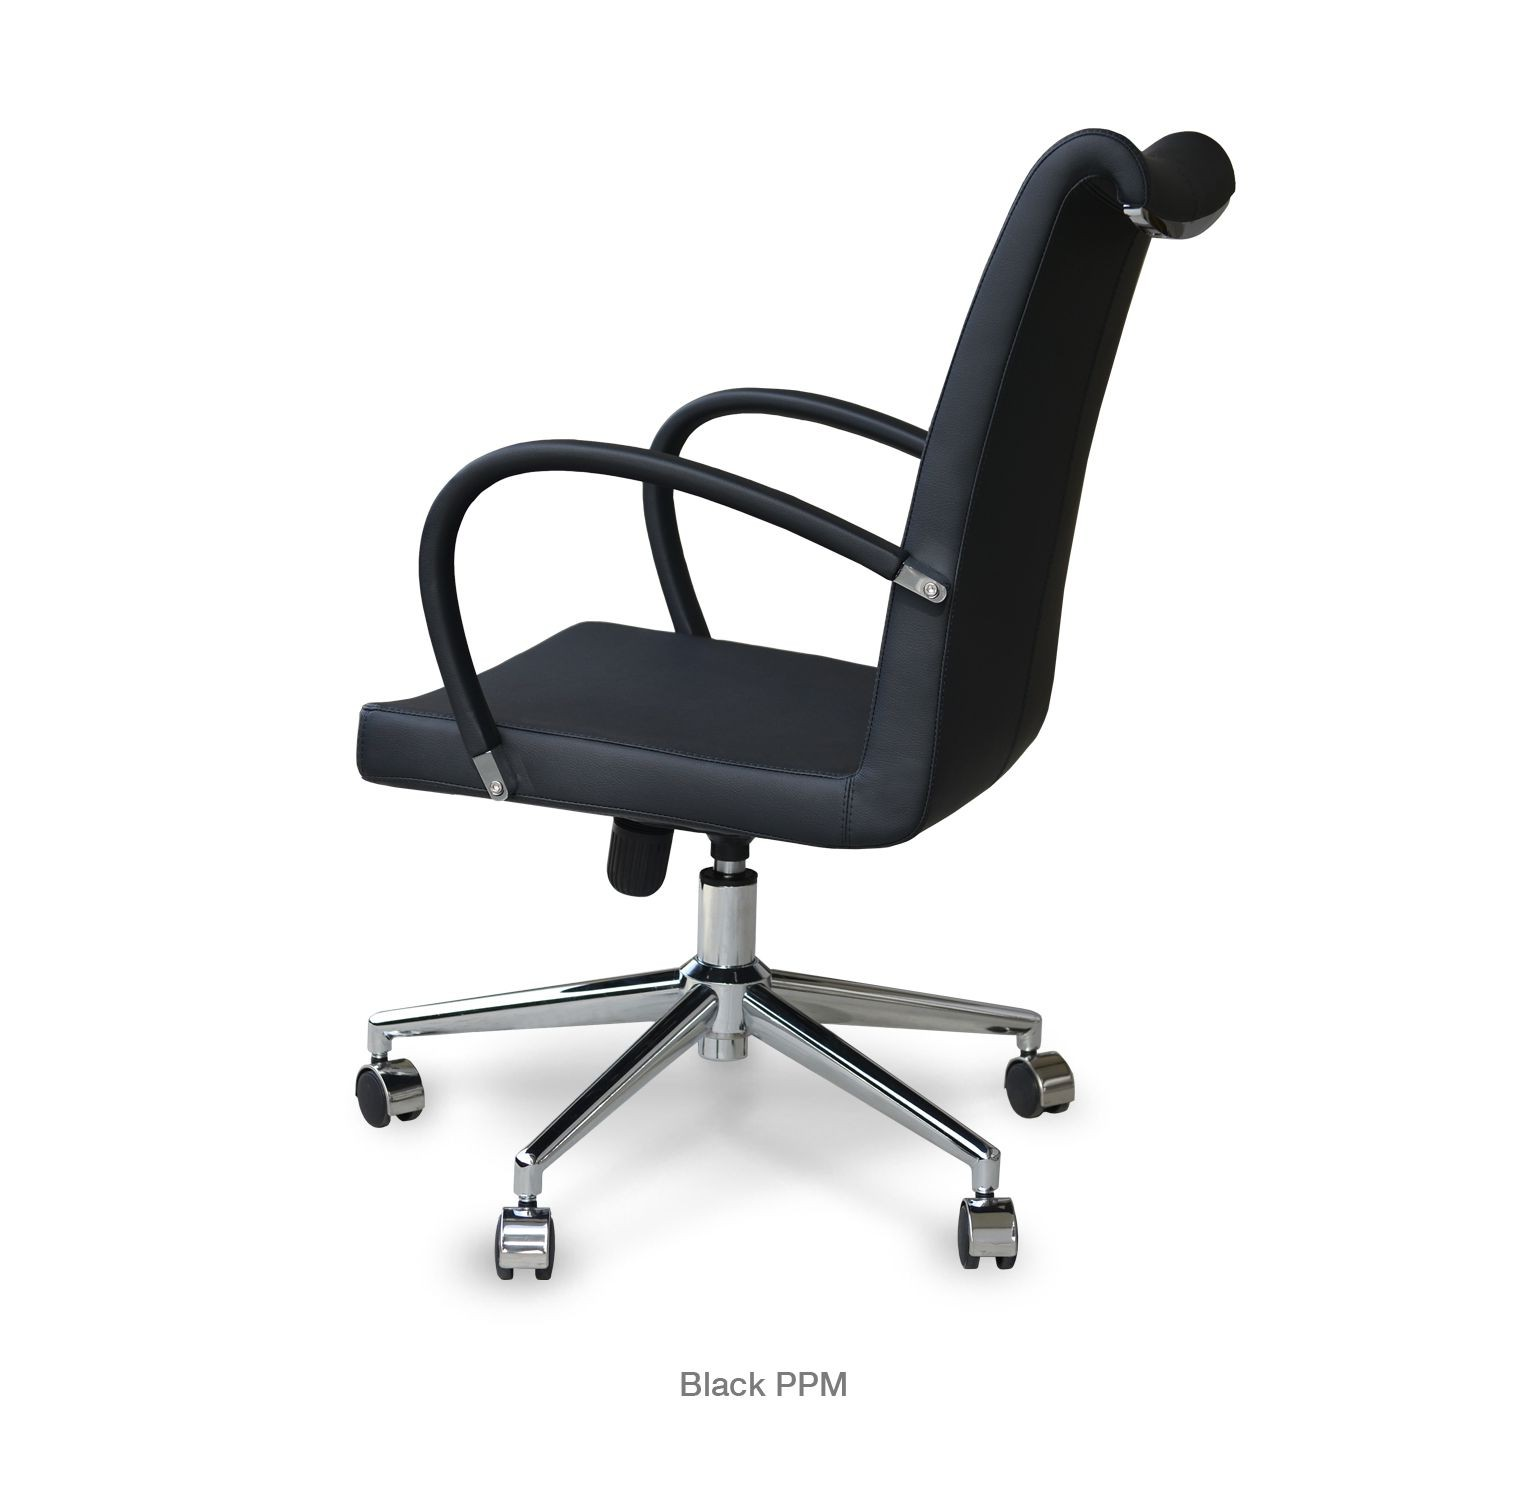chairs: (347, 81, 1230, 1281)
